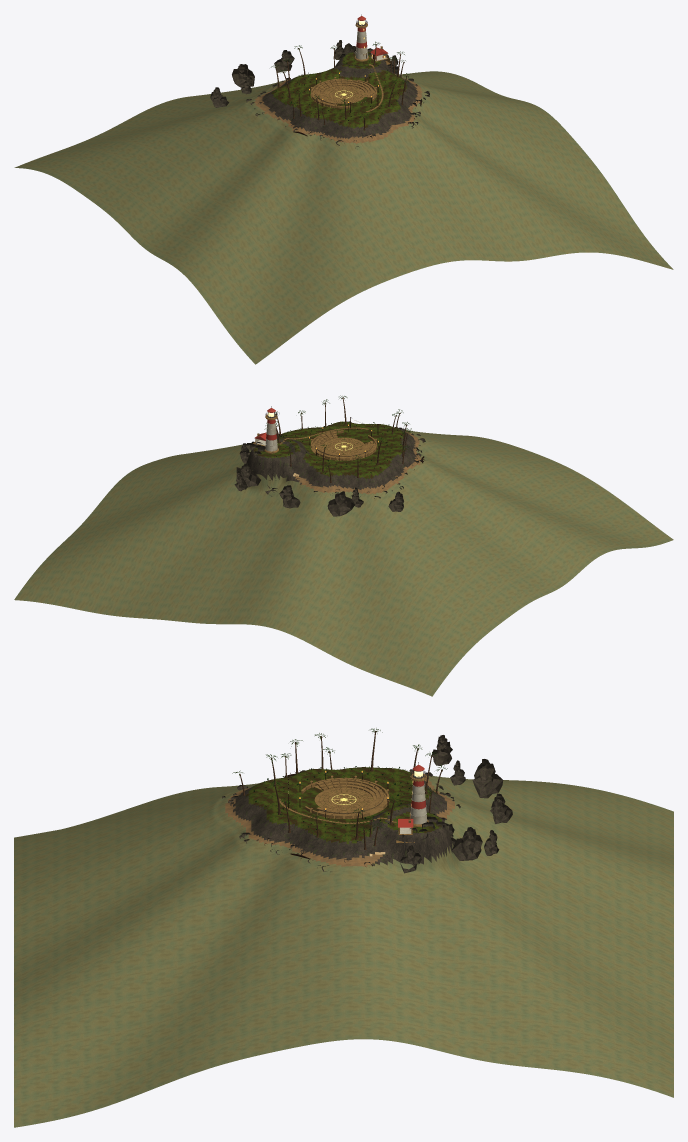
File: island_arena.glb
The picture shows the model from 3 angles, top to bottom: view 1: azimuth 30°, elevation 25°; view 2: azimuth 150°, elevation 25°; view 3: azimuth 270°, elevation 25°; orthographic projection. The views are drawn at different scales.
Parts seen in each view (by area): view 1: TERRAIN_Seabed, TERRAIN_Island, ARENA_Structure, PROP_SeaStacks; view 2: TERRAIN_Seabed, TERRAIN_Island, PROP_SeaStacks, ARENA_Structure, LIGHTHOUSE_Structure, PROP_ShoreRocks; view 3: TERRAIN_Seabed, TERRAIN_Island, PROP_SeaStacks, ARENA_Structure, PROP_ShoreRocks, LIGHTHOUSE_Structure.
Part boxes in pixels (<box>): TERRAIN_Seabed: <box>14,71,673,364</box>; TERRAIN_Island: <box>254,51,422,143</box>; ARENA_Structure: <box>310,77,377,108</box>; PROP_SeaStacks: <box>210,40,398,107</box>; TERRAIN_Seabed: <box>14,428,673,696</box>; TERRAIN_Island: <box>246,421,421,494</box>; PROP_SeaStacks: <box>234,443,403,516</box>; ARENA_Structure: <box>310,428,377,460</box>; LIGHTHOUSE_Structure: <box>264,406,278,453</box>; PROP_ShoreRocks: <box>245,421,425,498</box>; TERRAIN_Seabed: <box>14,772,673,1127</box>; TERRAIN_Island: <box>225,767,454,866</box>; PROP_SeaStacks: <box>400,735,512,873</box>; ARENA_Structure: <box>301,775,389,818</box>; PROP_ShoreRocks: <box>222,769,460,871</box>; LIGHTHOUSE_Structure: <box>409,762,428,826</box>.
Size of the model in its own units: 190 by 81.32 by 190.
Materials: 19 (12 with a texture image).
